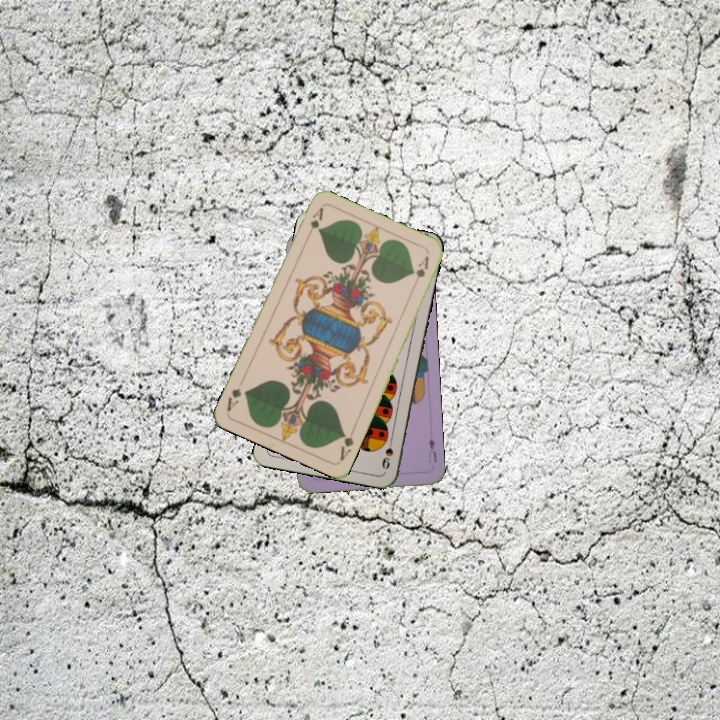EU: (424, 434, 439, 466)
GA: (302, 203, 326, 242), (336, 424, 357, 464)
S9: (378, 432, 396, 471)
